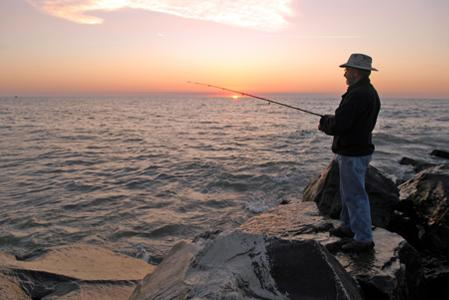person: (319, 54, 382, 253)
